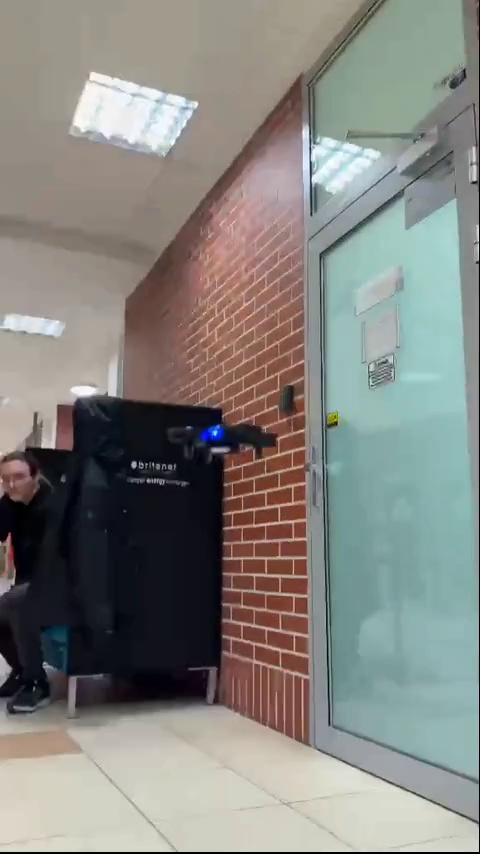drone: (167, 421, 271, 466)
no vest: (0, 452, 80, 703)
